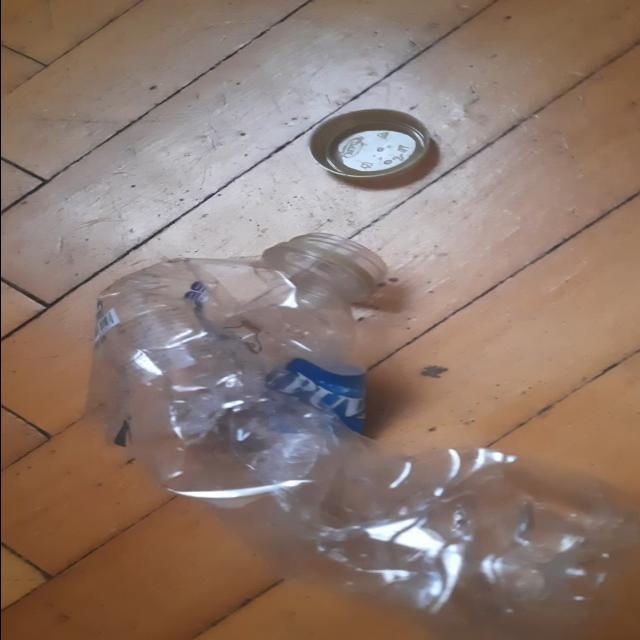Plastic: (93, 232, 390, 504)
